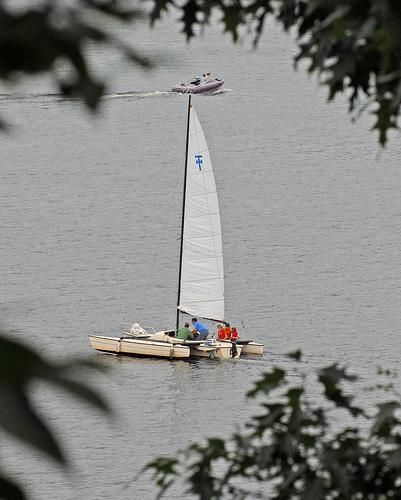Ship: (90, 96, 268, 361), (172, 76, 226, 95)
